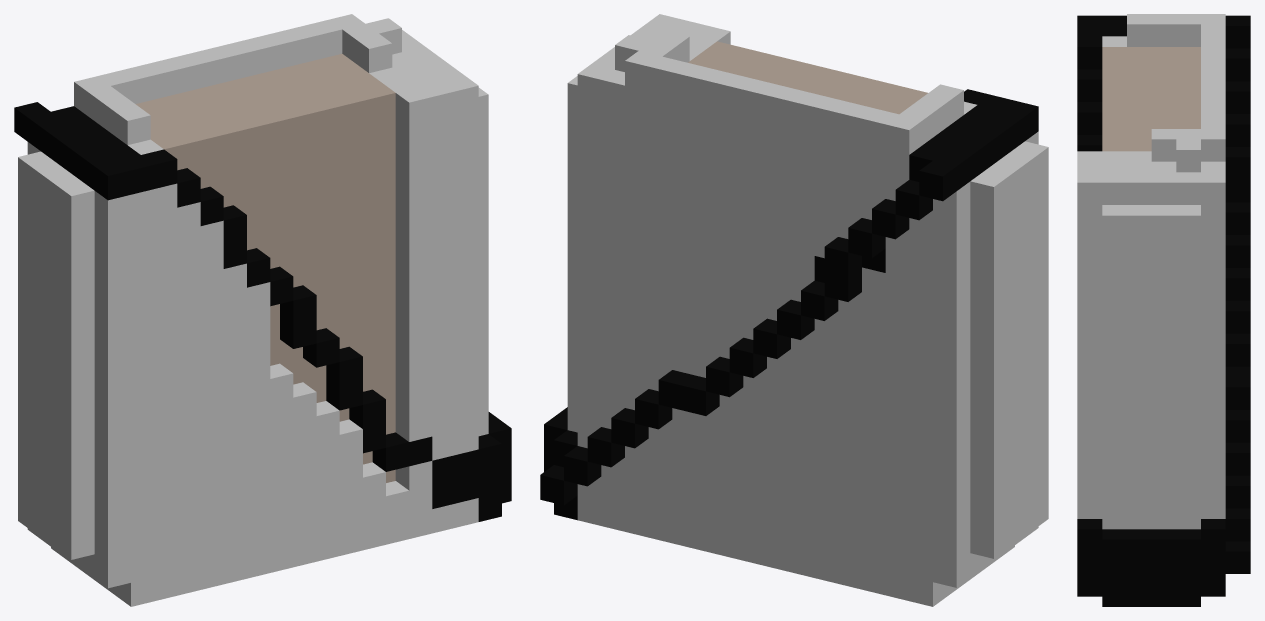
File: Body.obj
3 views of the same model, side by side, from view 1: azimuth 30°, elevation 25°; view 2: azimuth 150°, elevation 25°; view 3: azimuth 270°, elevation 25° (orthographic). The views are drawn at different scales.
Bounding box in the file's own units: 1.9 × 1.9 × 0.7.
Materials: 1 (1 with a texture image).
